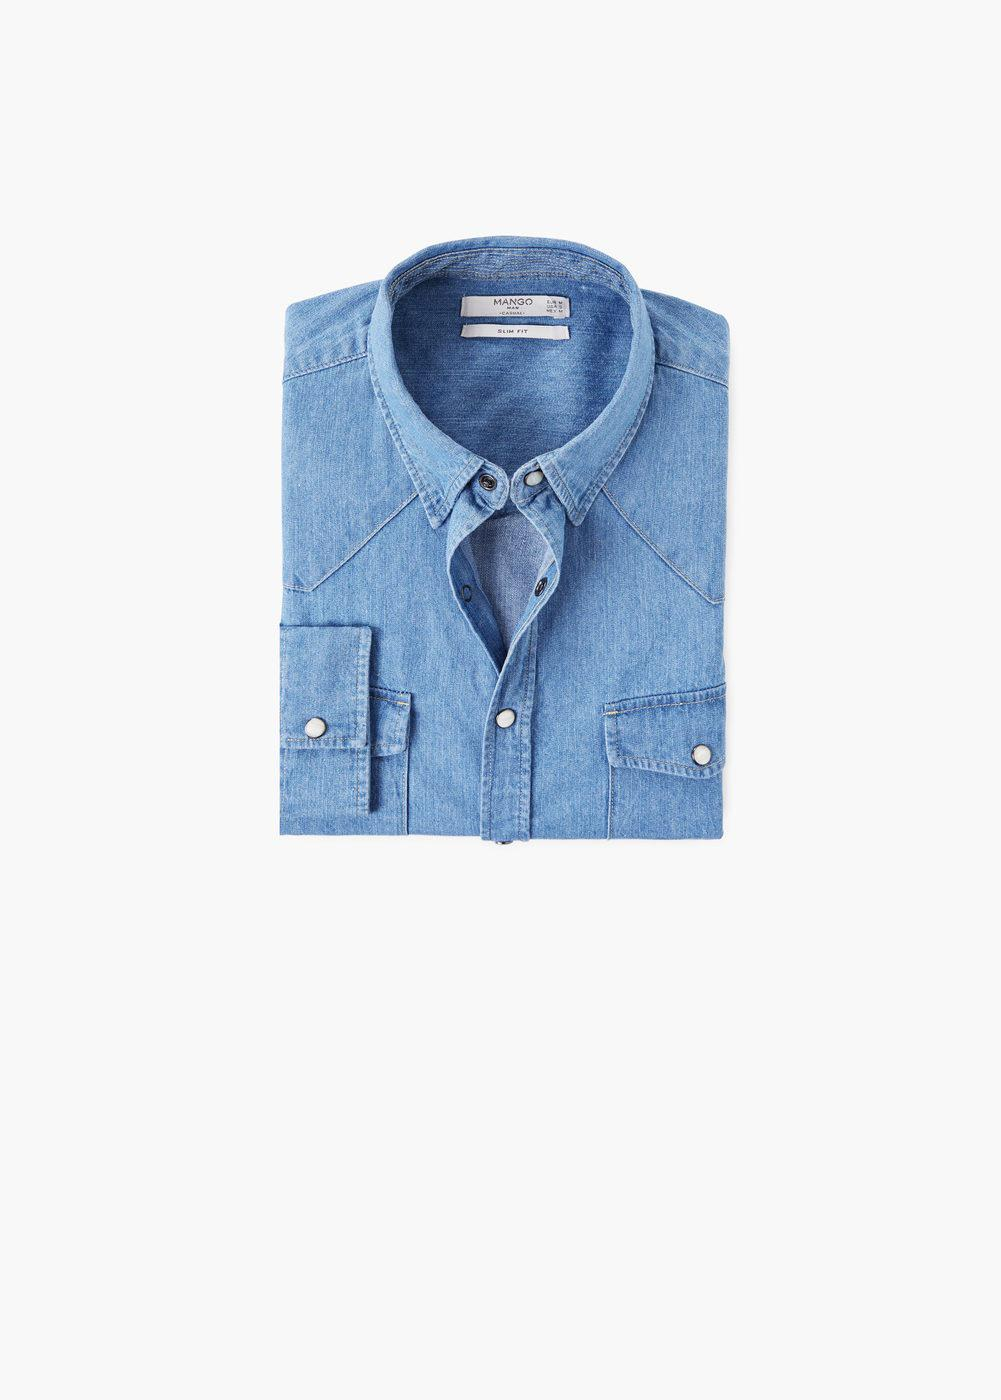teeshirt: (246, 243, 738, 846)
